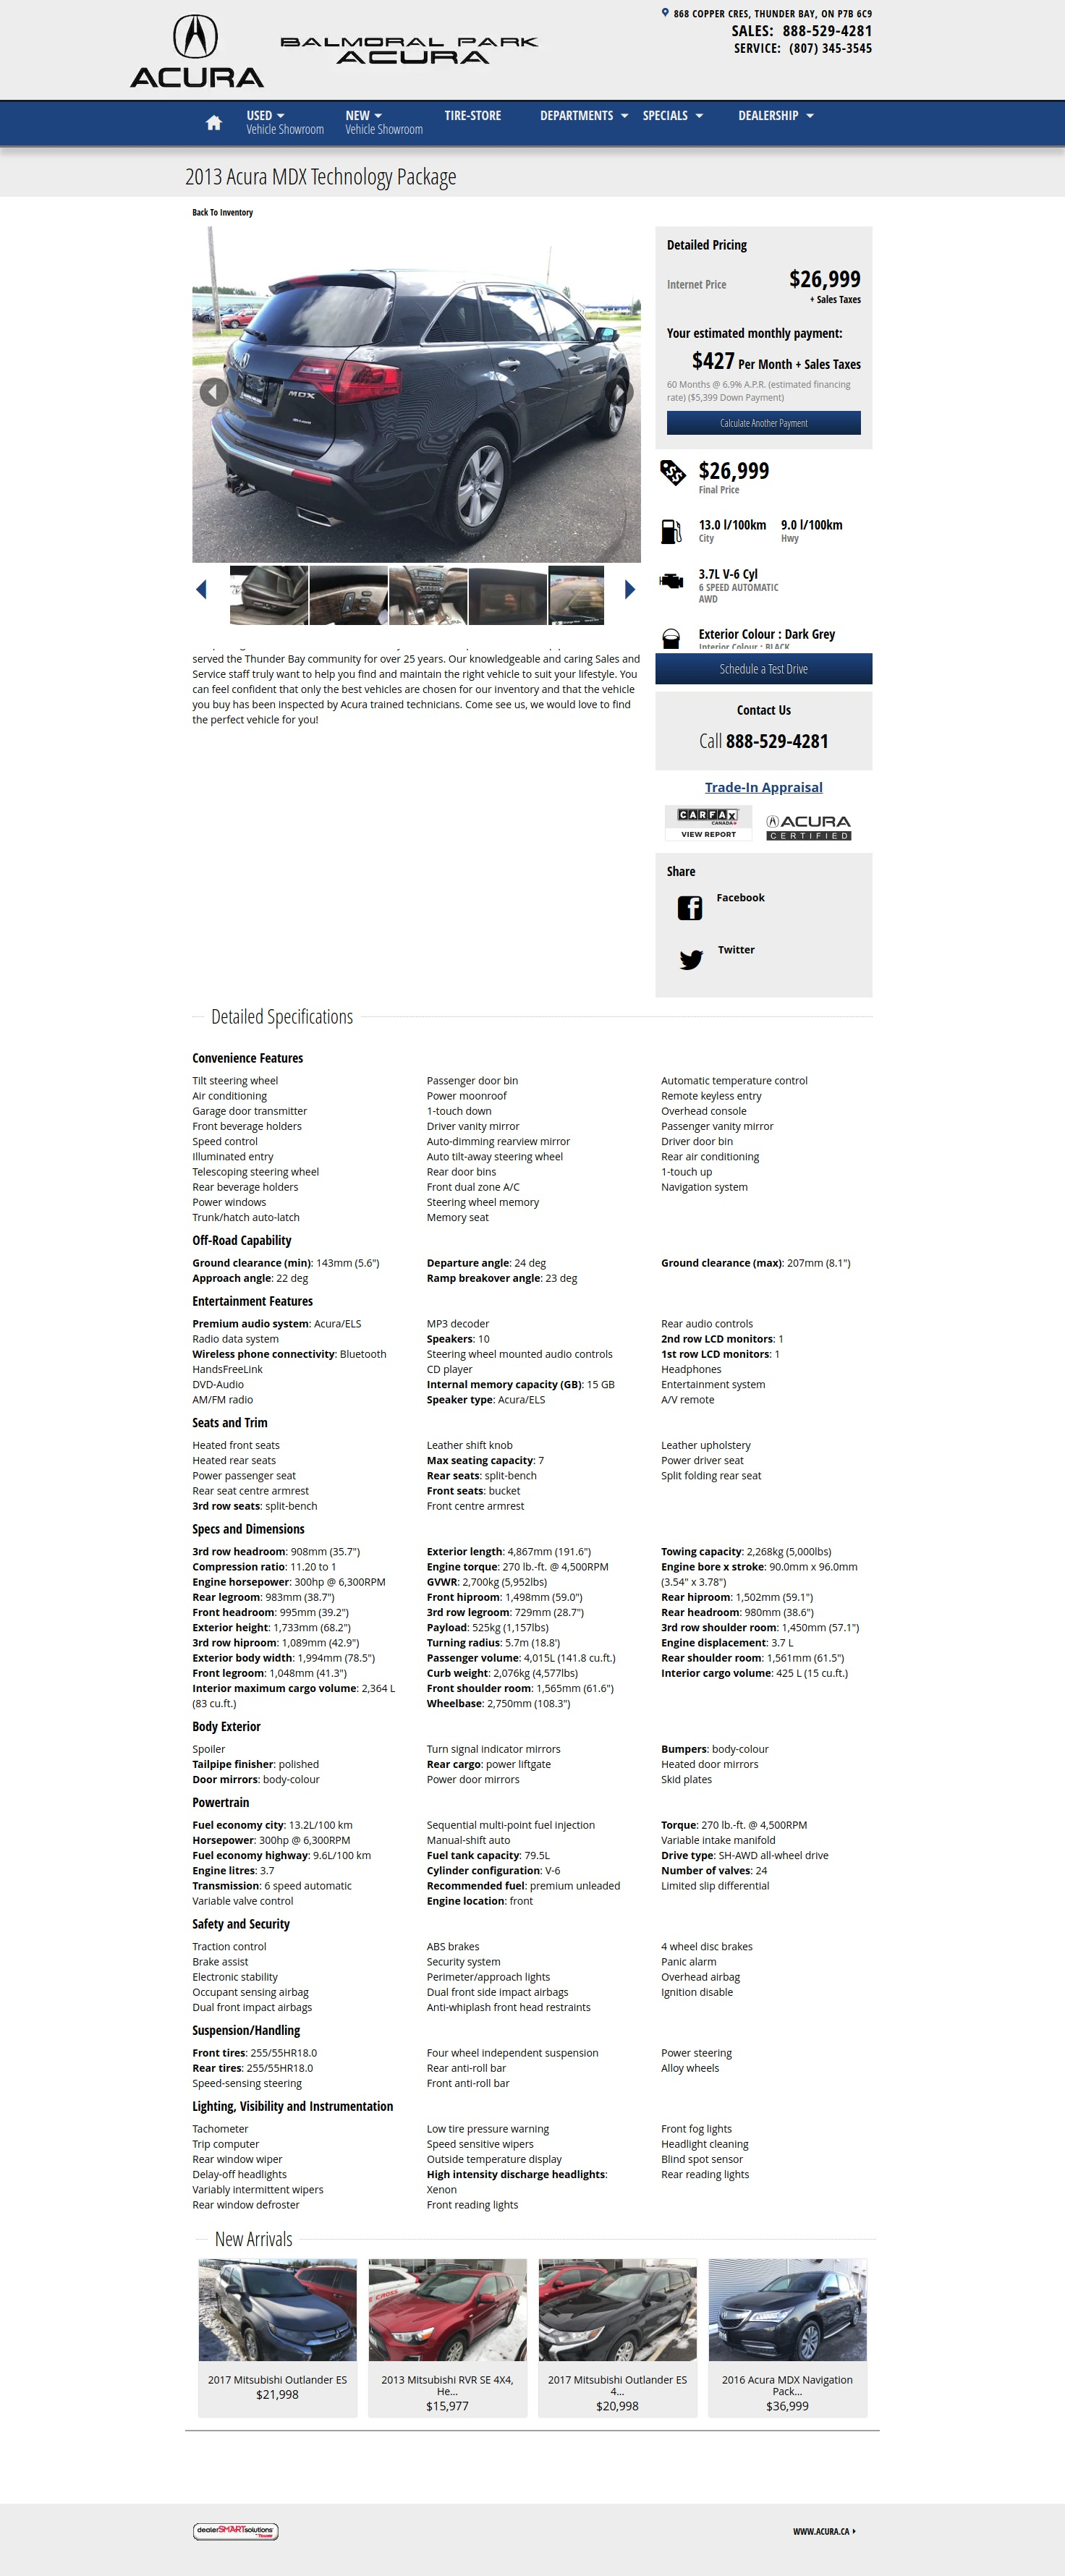car: (625, 578, 636, 601)
